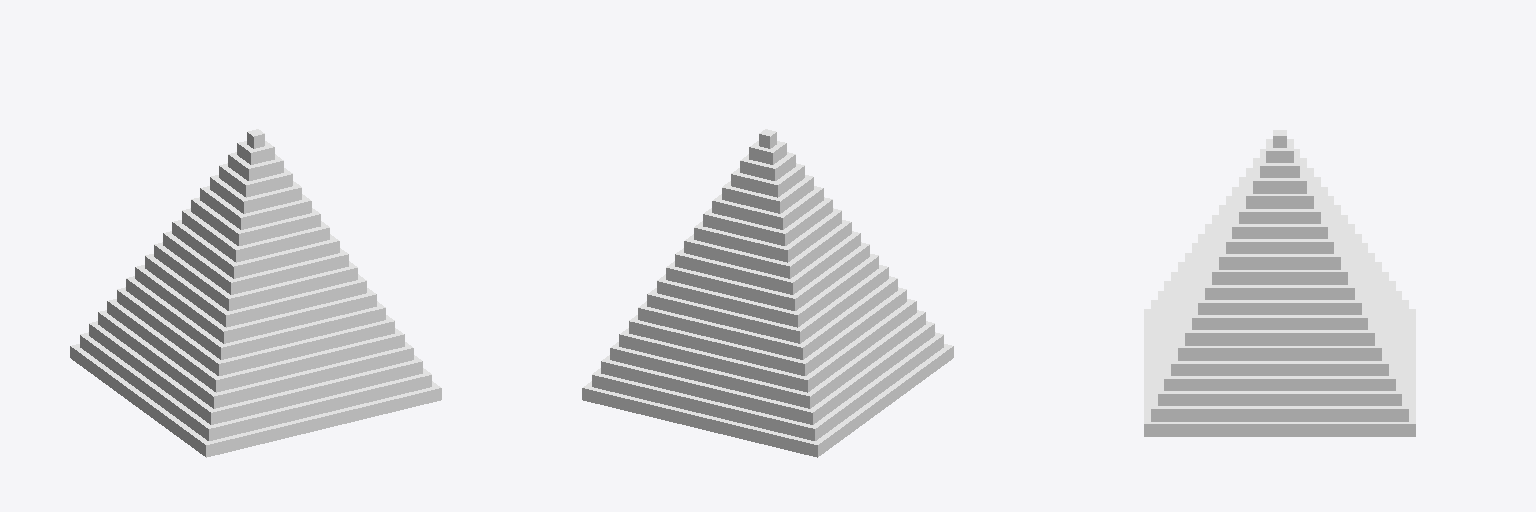
The model's file is Pyrimid.obj.
The picture shows the model from 3 angles: view 1: azimuth 30°, elevation 25°; view 2: azimuth 150°, elevation 25°; view 3: azimuth 270°, elevation 25°; orthographic projection.
Visible parts, largest first — view 1: object 1; view 2: object 1; view 3: object 1.
Boxes of the visible parts, box(x1,y1,x2,y2) form: object 1: box(70, 129, 441, 457); object 1: box(582, 129, 953, 457); object 1: box(1144, 130, 1415, 436).
Size of the model in its own units: 4 by 4 by 4.